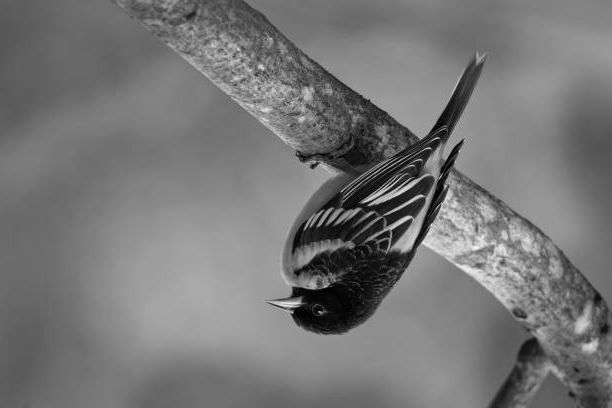Bird: (264, 49, 490, 337)
